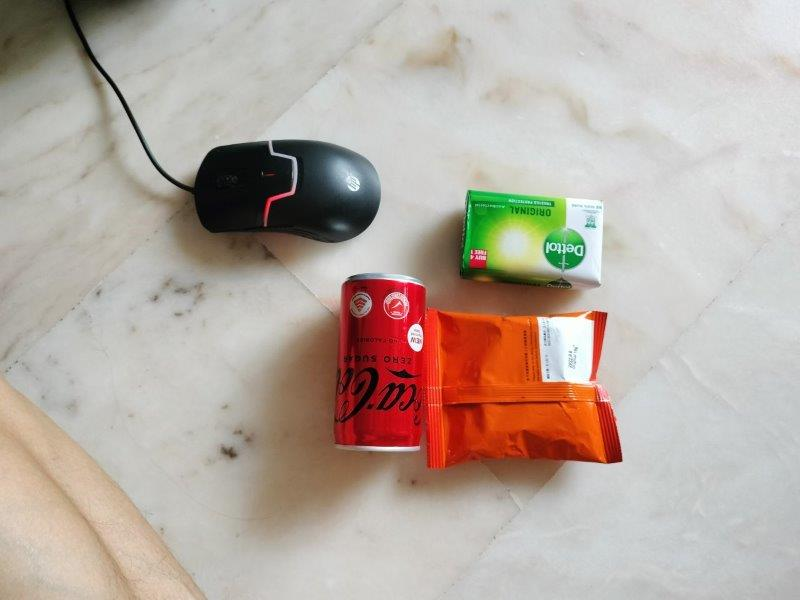Coke: (334, 273, 428, 454)
Dettol: (463, 191, 604, 291)
Jagabee: (423, 308, 622, 473)
